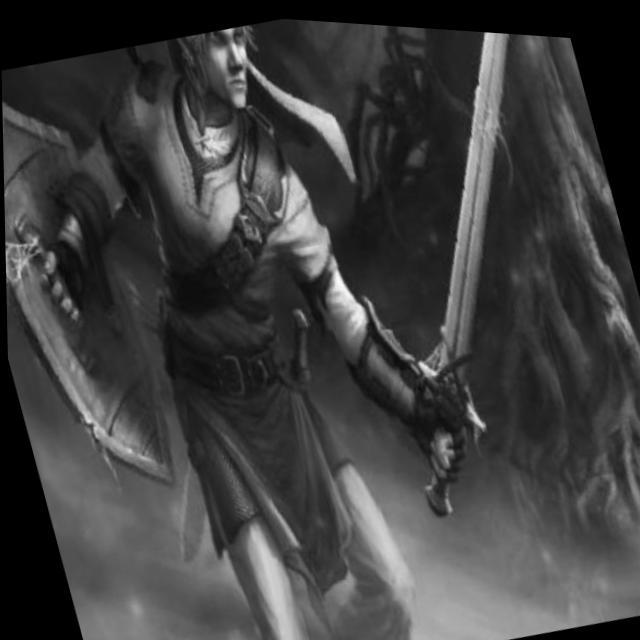weapon: (293, 15, 640, 528)
